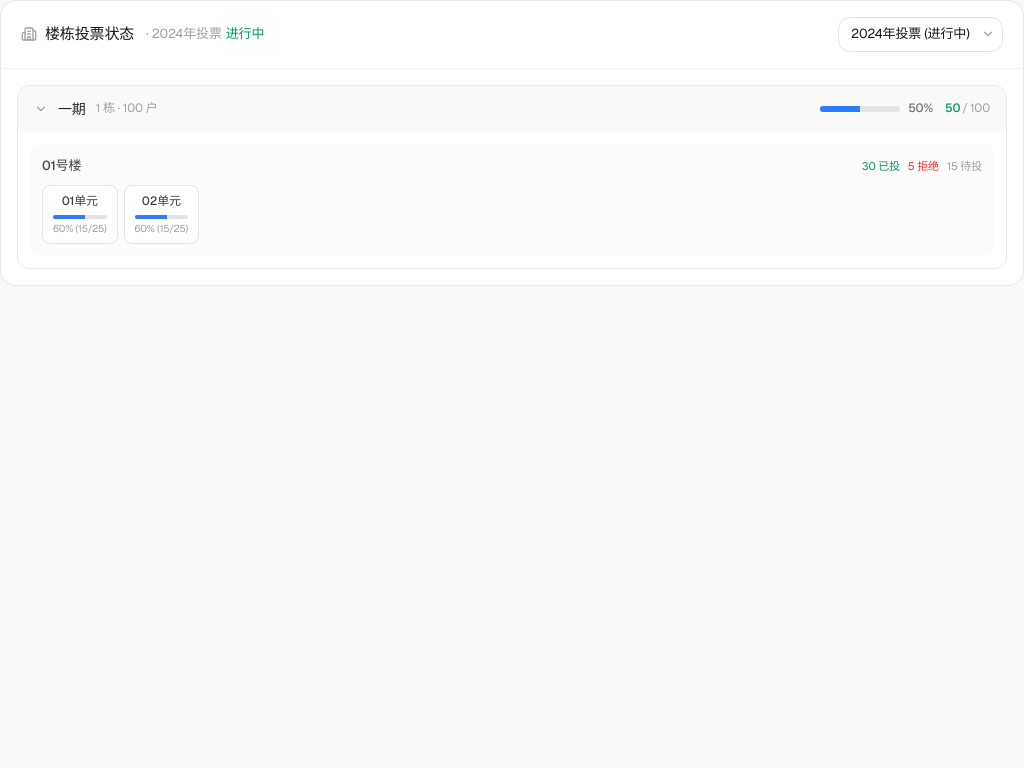
it: BuildingVoteVisualization › 批量操作模式应该工作
Click the text "01单元" at x=80, y=202, box [62,192,98,211]
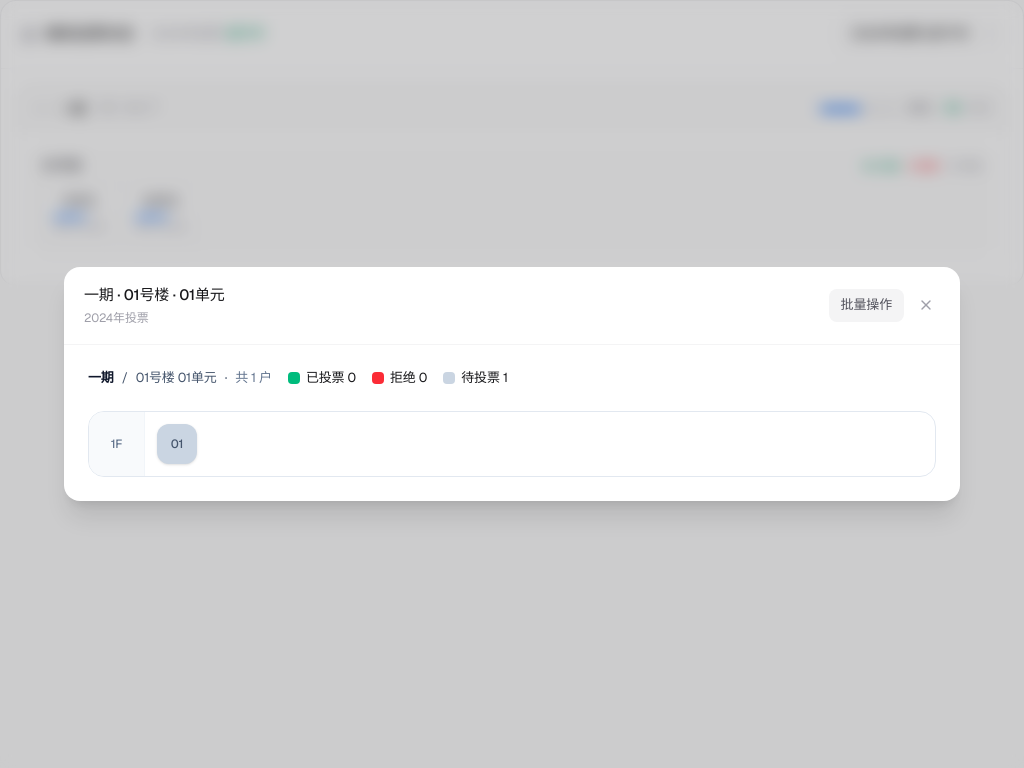
Expected: the button "批量操作" is shown
Click the button "批量操作" at x=866, y=305, box [829,289,904,322]
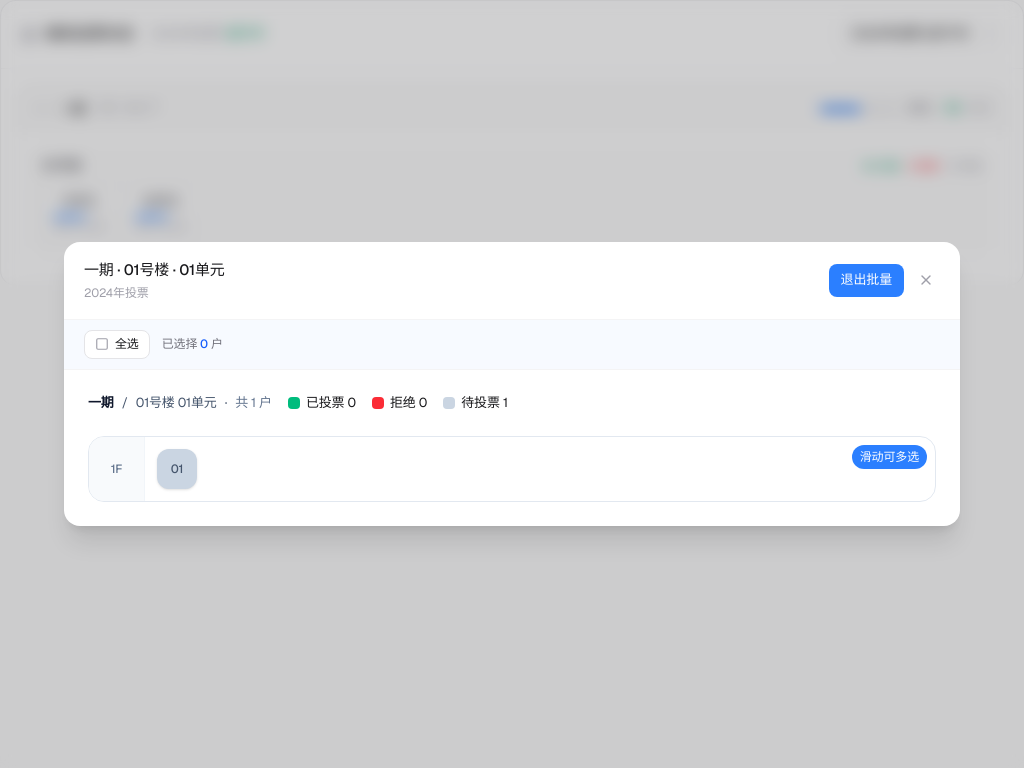
Expected: the button "全选" is shown, [84,330,150,359]
